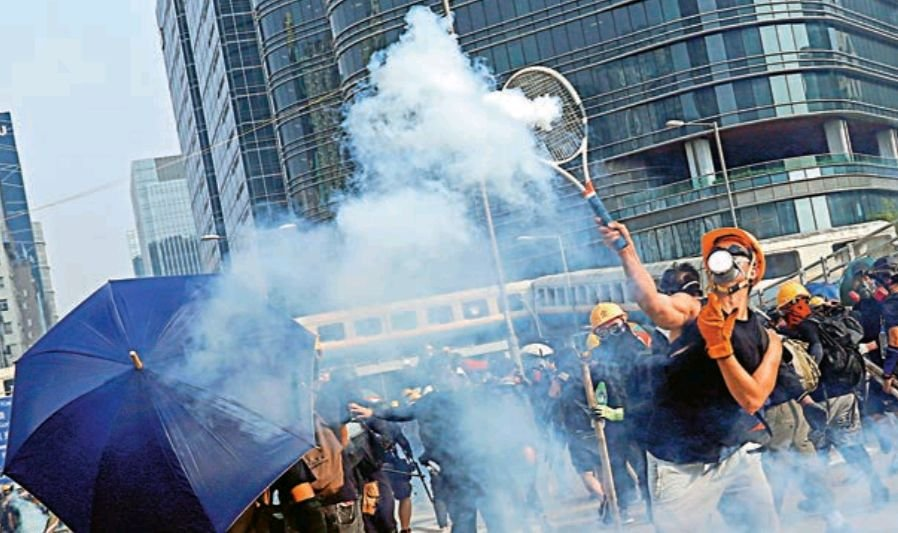smoke: (210, 17, 586, 457)
